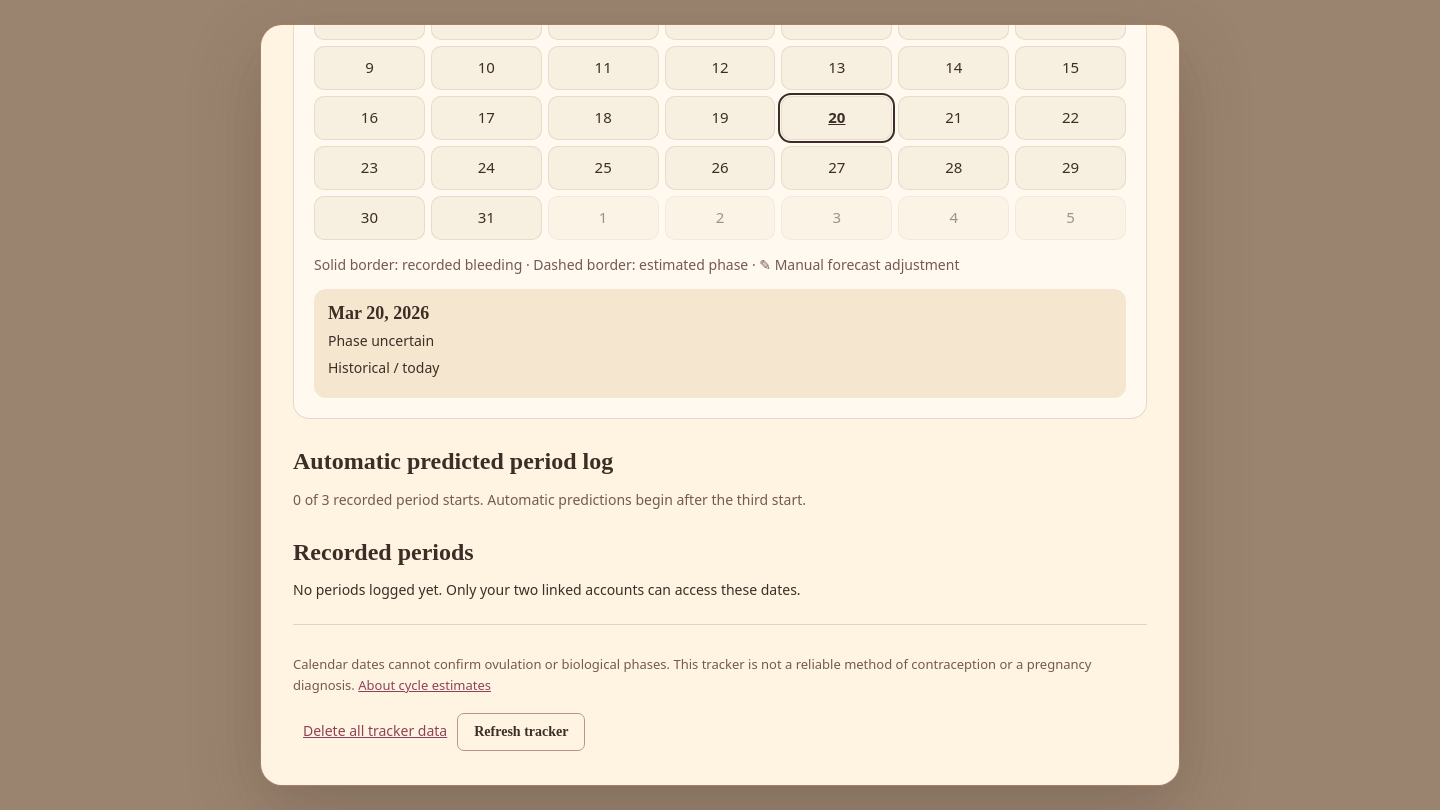
Test case: private cycle journal interactions with simulated persistence › clears data when access is denied on refresh and offers a retry for connection errors
(page scrolled)
Step 1. Click the button "Refresh tracker" → (521, 732), box [457, 713, 585, 751]
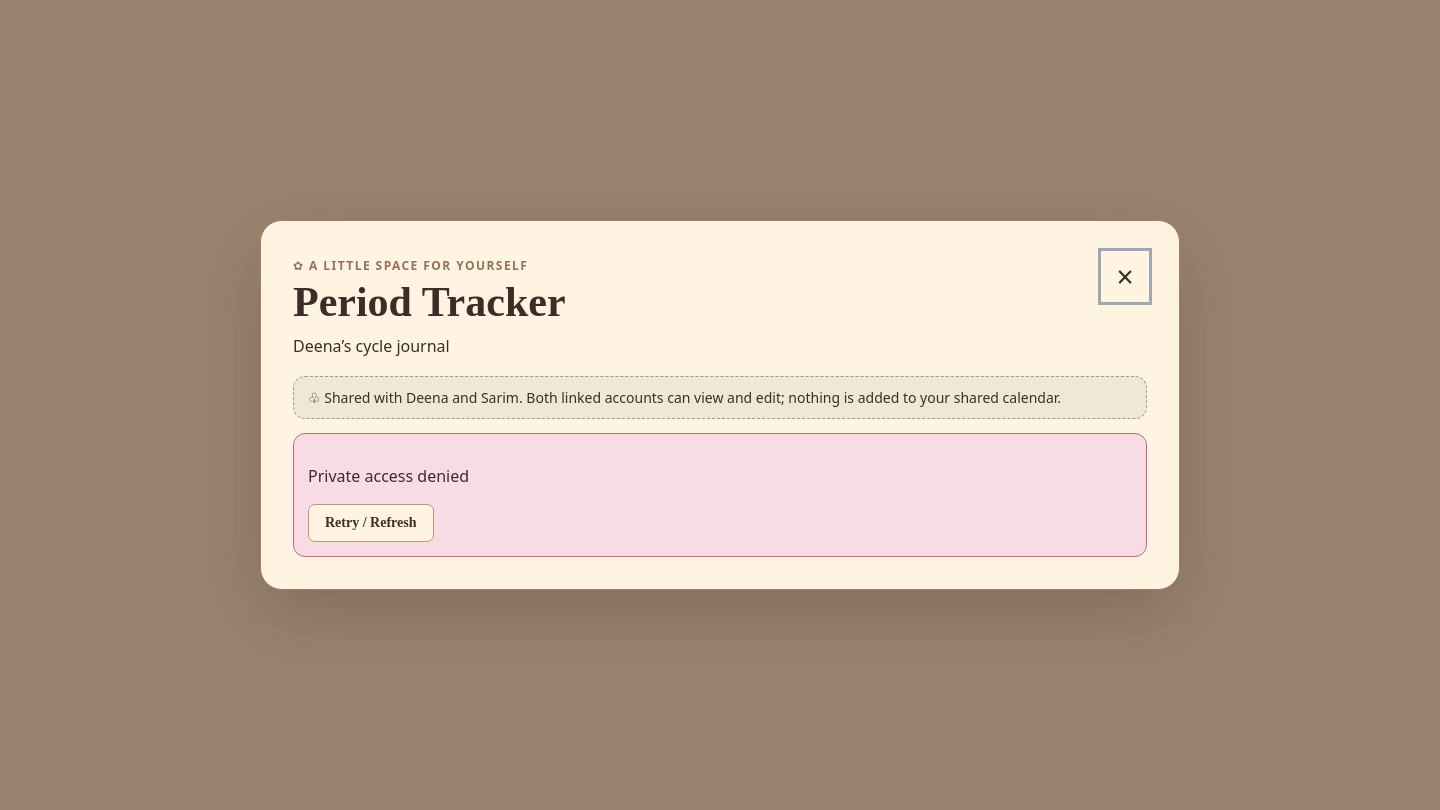
Check: the text "Private access denied" is shown, box [308, 465, 469, 487]
